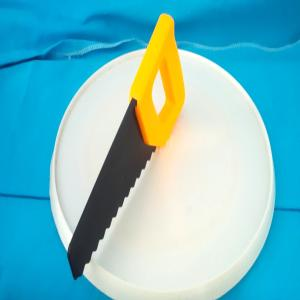serrote: (65, 11, 188, 282)
